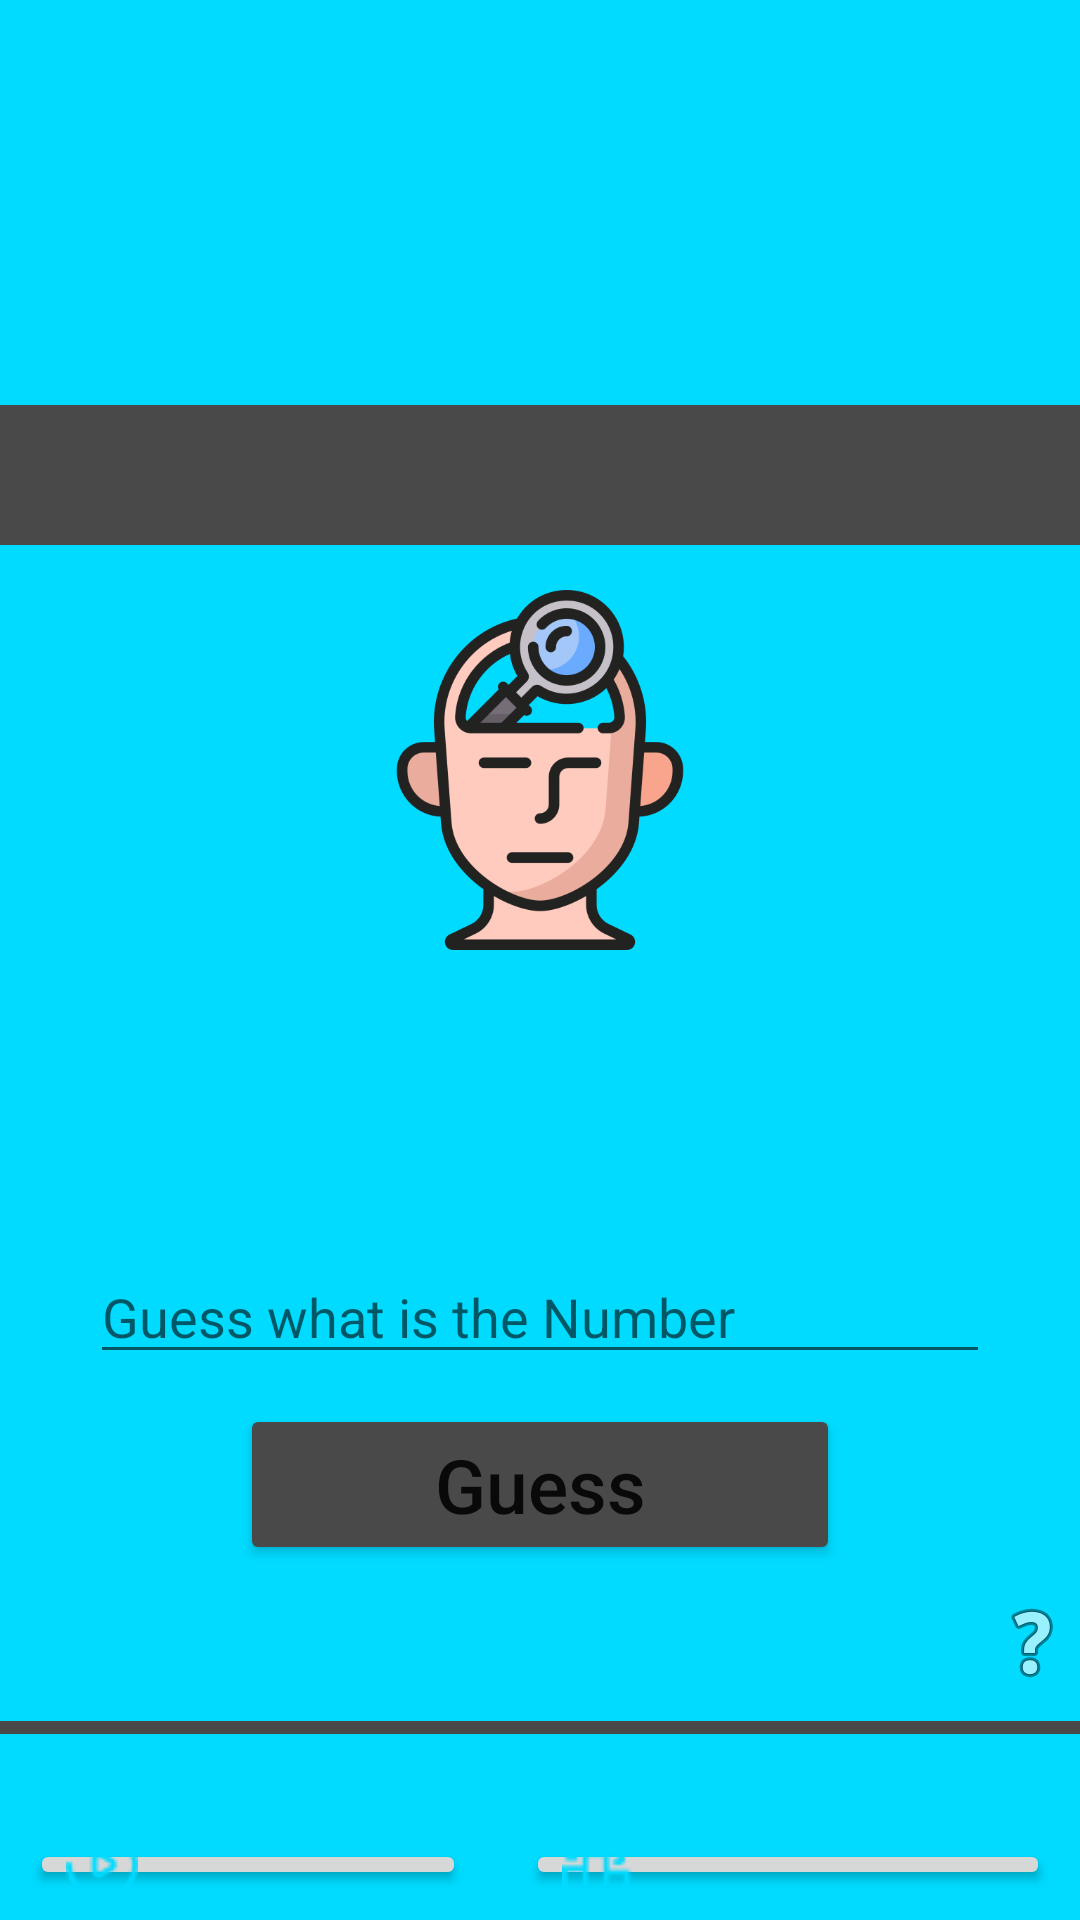

Locate icon controls on the screen. Image size 1080x1920, boxes as (x1, y1, x2, y2).
help: (1011, 1609, 1053, 1677)
observe: (396, 590, 684, 950)
